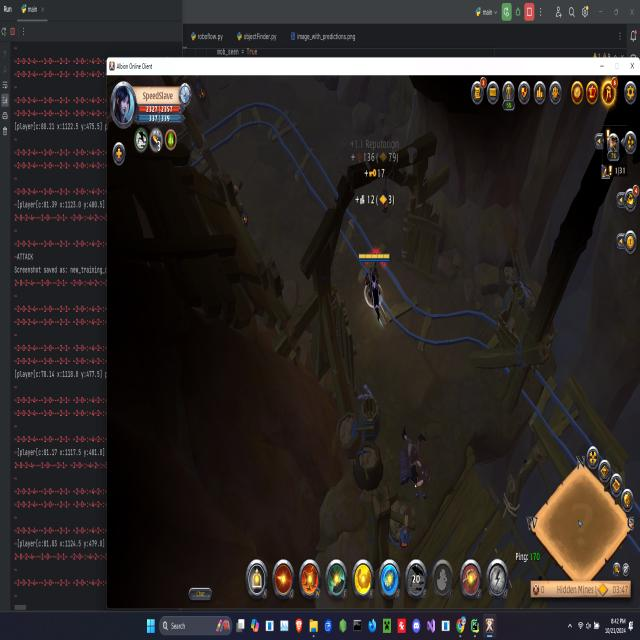red: (356, 246, 393, 328)
